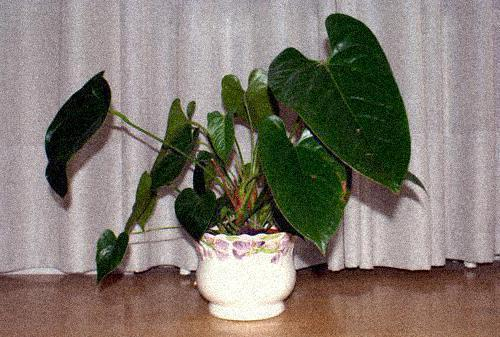Matera: (26, 7, 394, 328)
